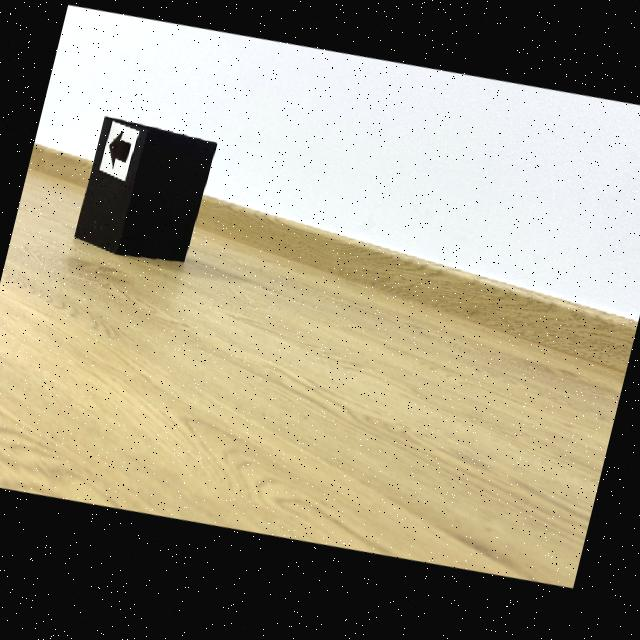LEFT: (107, 133, 130, 168)
